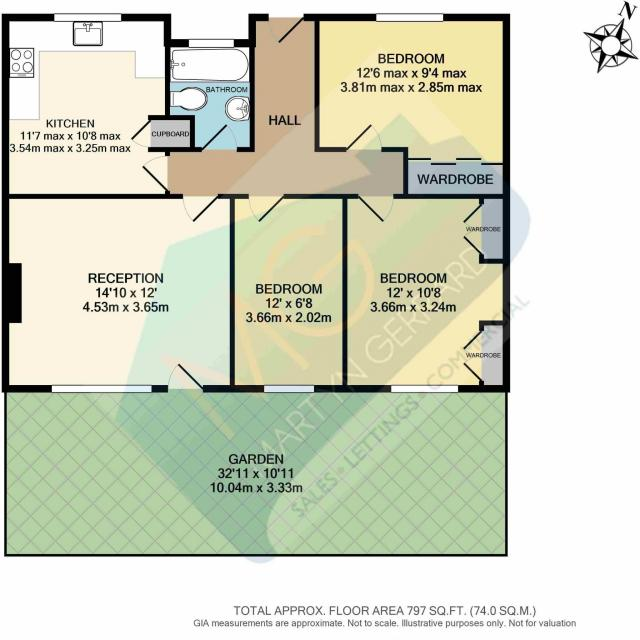DOOR: (182, 193, 220, 224), (166, 362, 204, 393), (200, 123, 238, 153), (344, 123, 383, 152), (357, 193, 394, 223), (247, 194, 285, 223), (141, 155, 170, 192)
ROOM: (2, 193, 235, 392), (342, 193, 510, 393), (1, 13, 171, 199), (314, 14, 510, 164), (229, 194, 348, 393)
WINDOW: (51, 384, 153, 394), (389, 384, 460, 394), (53, 13, 122, 22), (374, 13, 443, 22), (263, 385, 315, 394), (188, 38, 234, 48)
